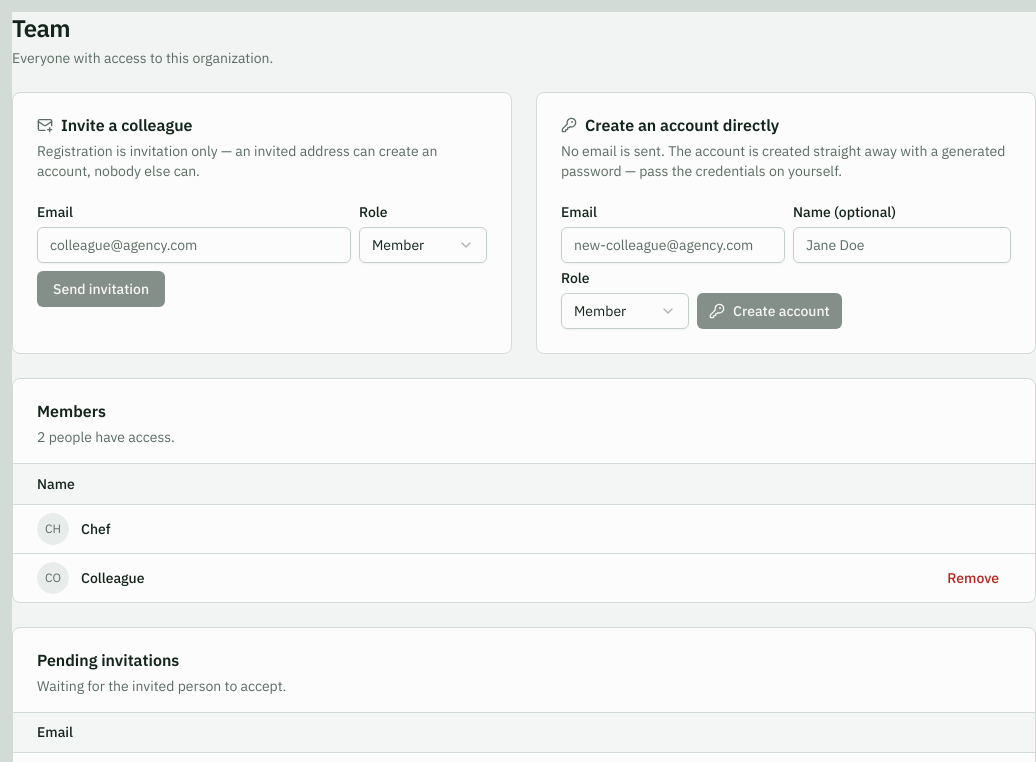
Test: MembersPage › invites a colleague and shows the link to pass on by hand
Type "new@agency.com" into the field with placeholder "colleague@agency.com" below "Invite a colleague". click: [194, 245]
box: [37, 227, 351, 263]
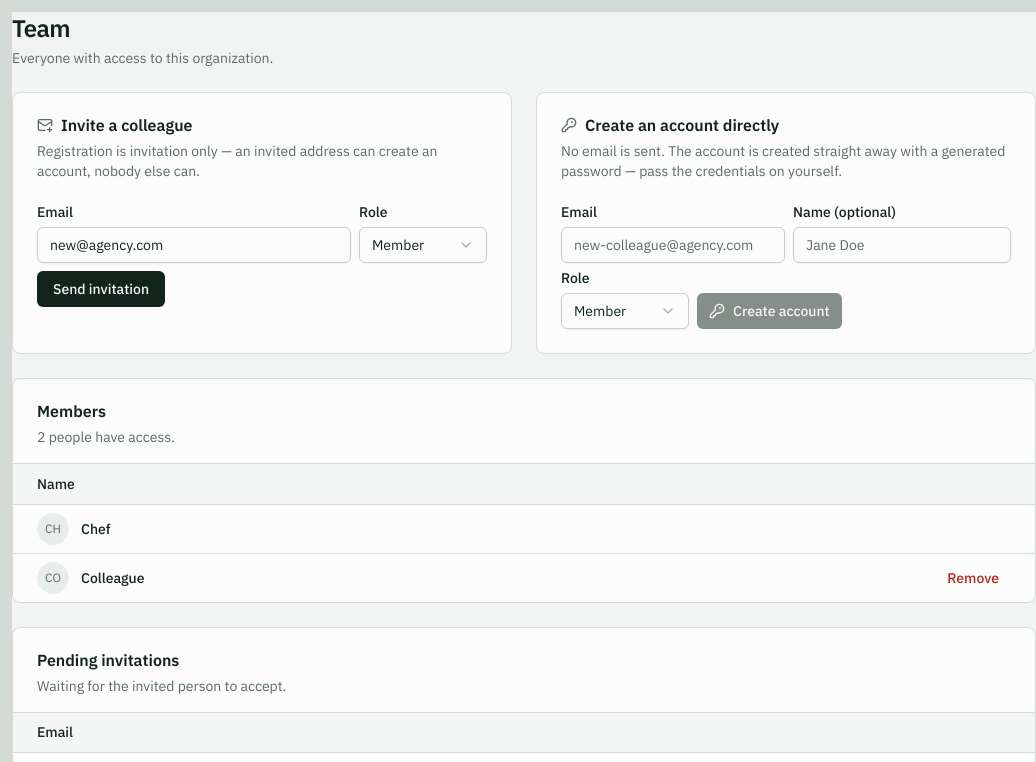
Click the button "Send invitation". click: [101, 289]
box: [37, 271, 165, 307]
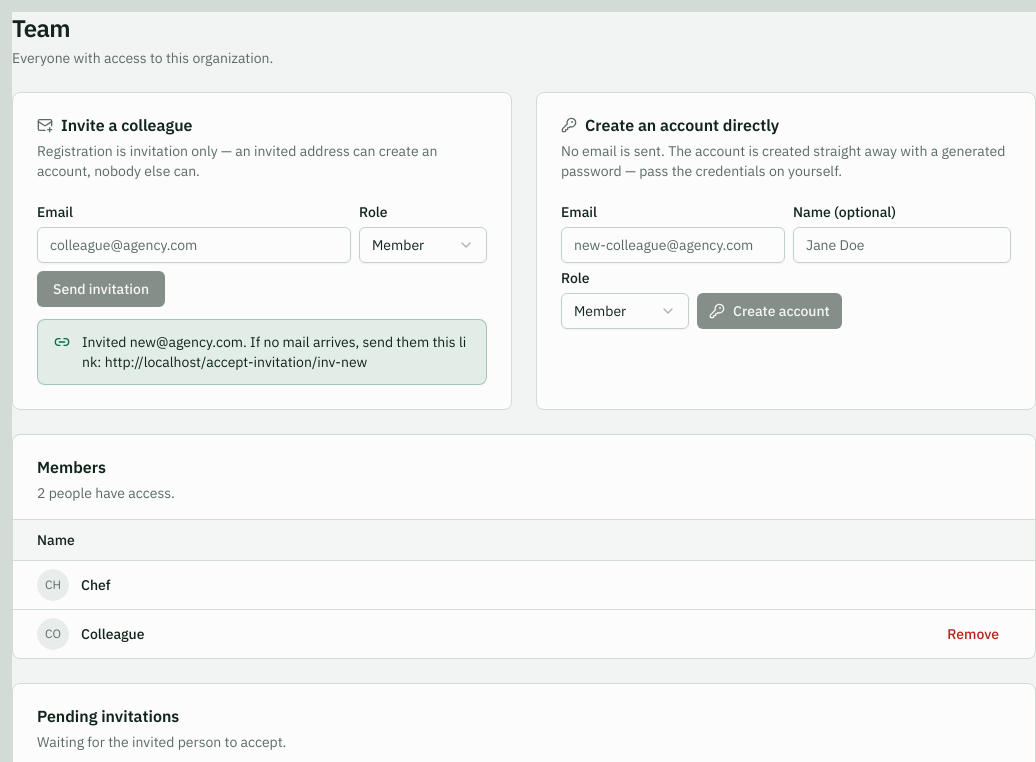
Check: the message shows "/accept-invitation/inv-new", box [82, 333, 466, 371]
